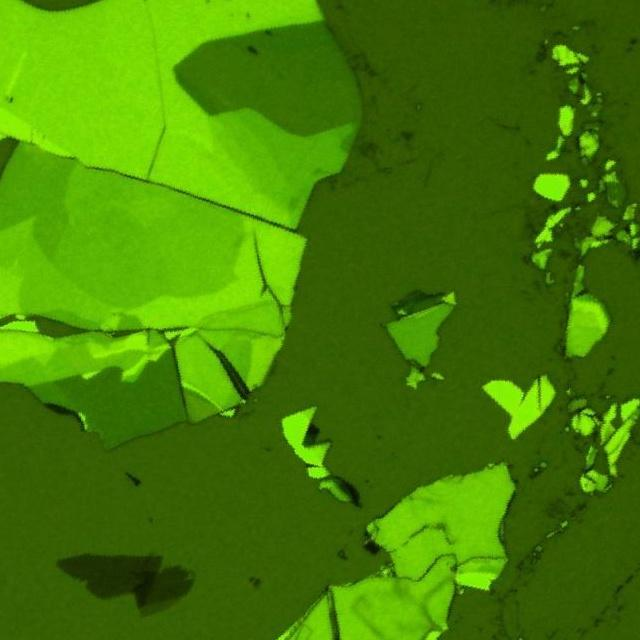monolayer-eWW4: (140, 600, 178, 618)
